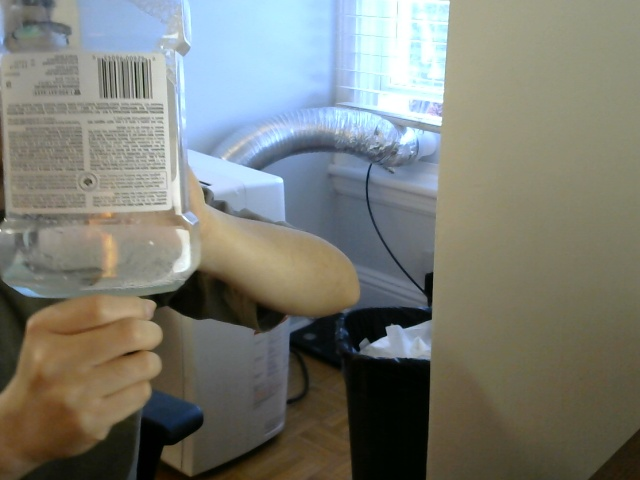Barcode: (96, 55, 154, 100)
